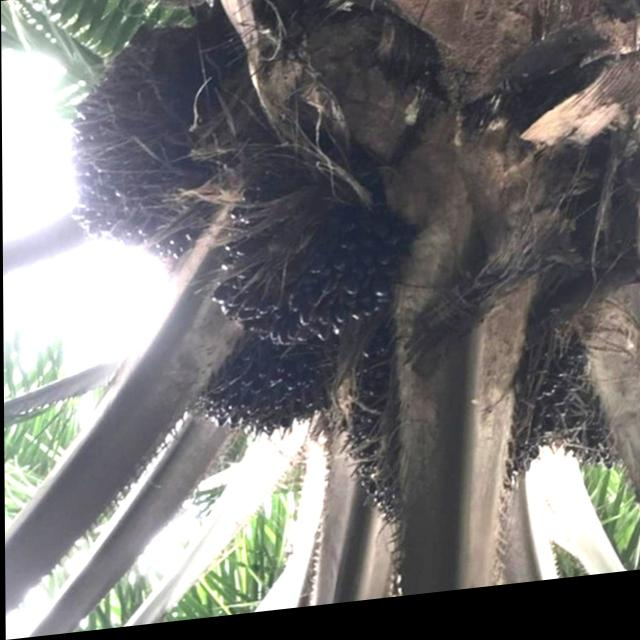almost: (196, 164, 417, 376)
